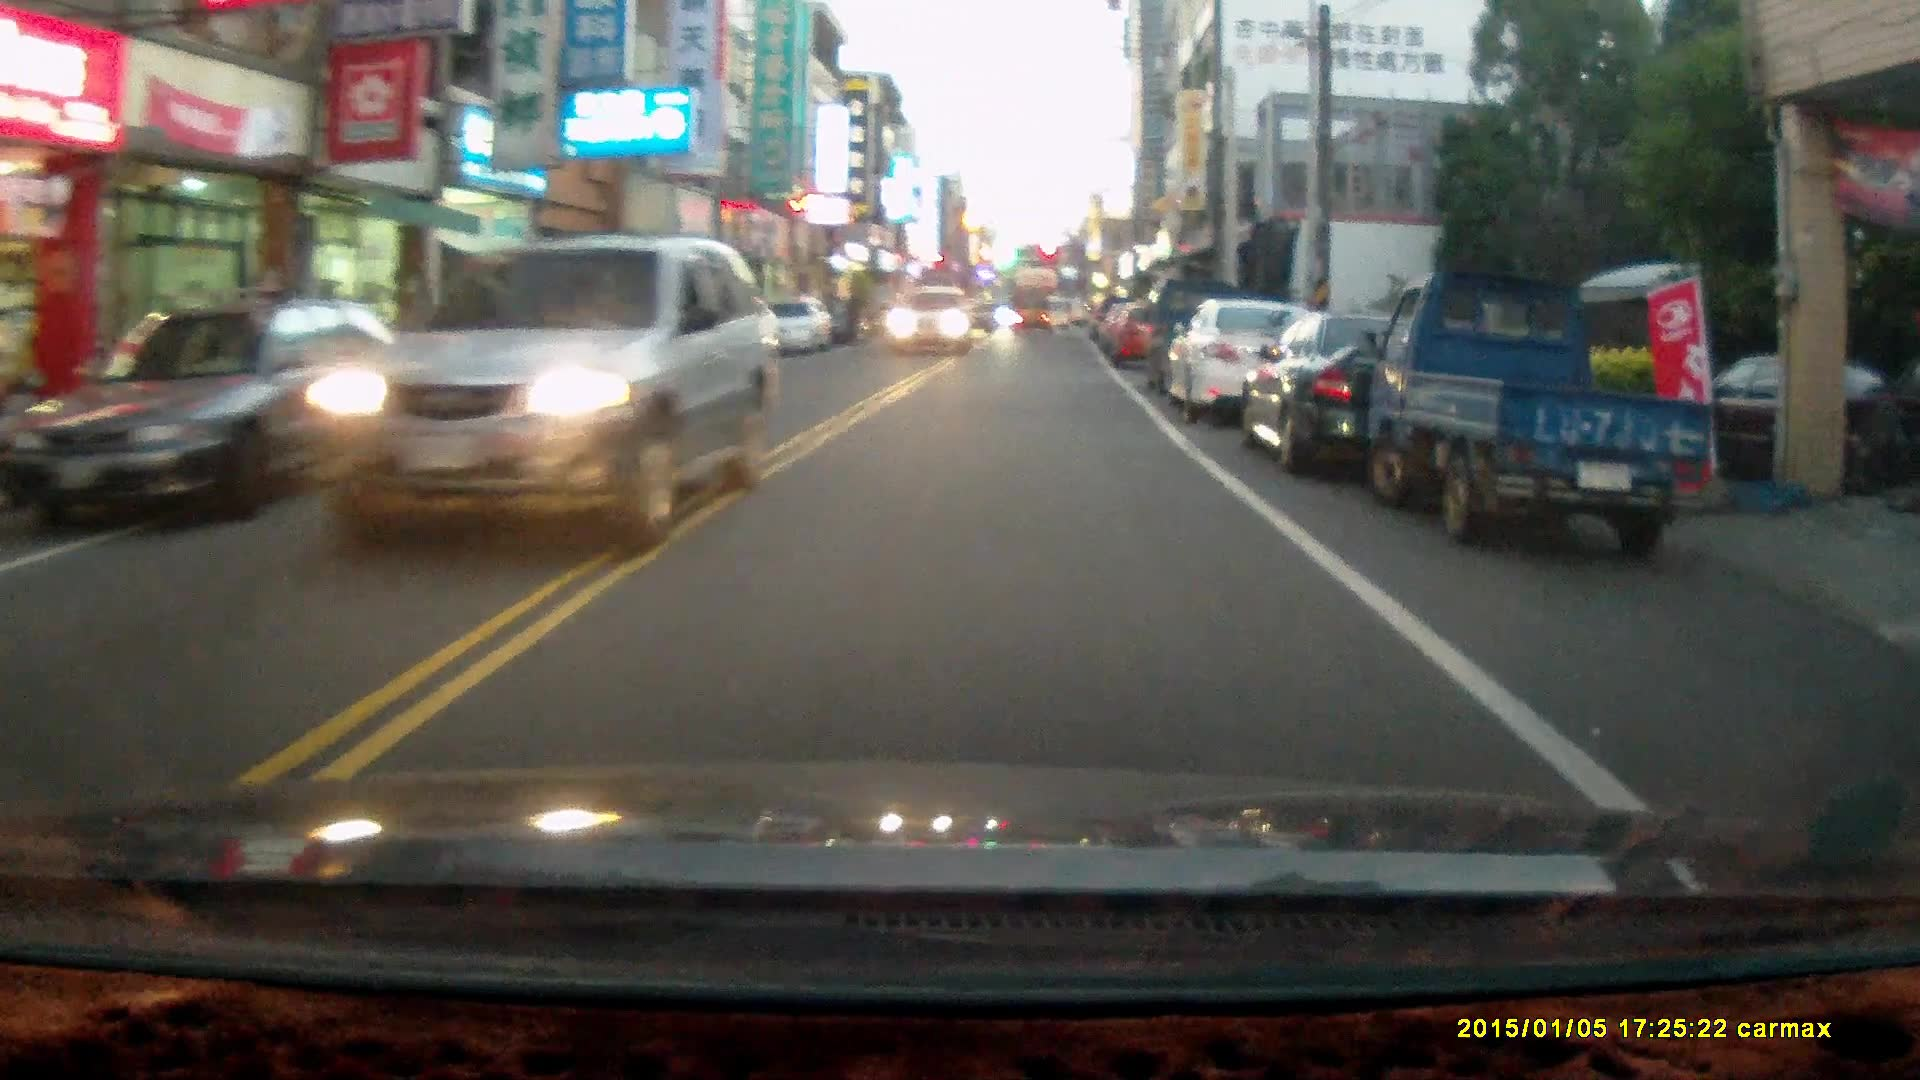vehicle: (299, 231, 787, 551), (1365, 272, 1717, 563), (30, 293, 436, 529), (1244, 309, 1522, 481), (1160, 301, 1335, 425), (890, 286, 977, 363), (1009, 290, 1054, 339)
